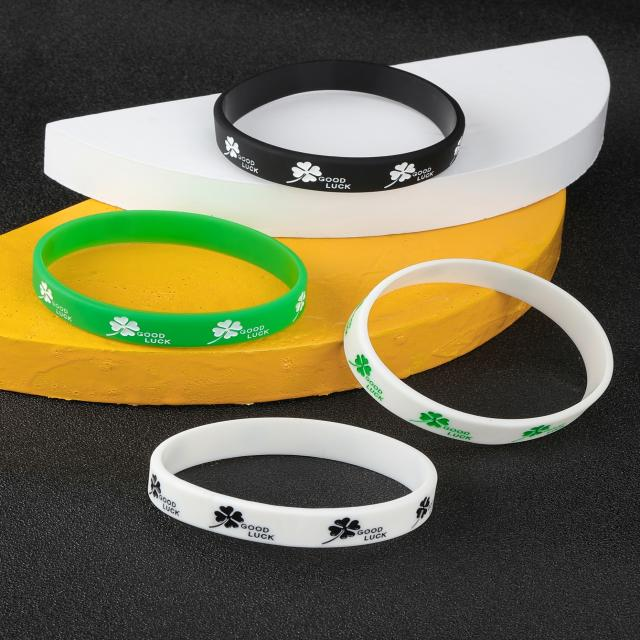bracelet: (125, 403, 478, 619), (328, 227, 636, 468), (0, 172, 331, 390), (156, 21, 504, 220)
